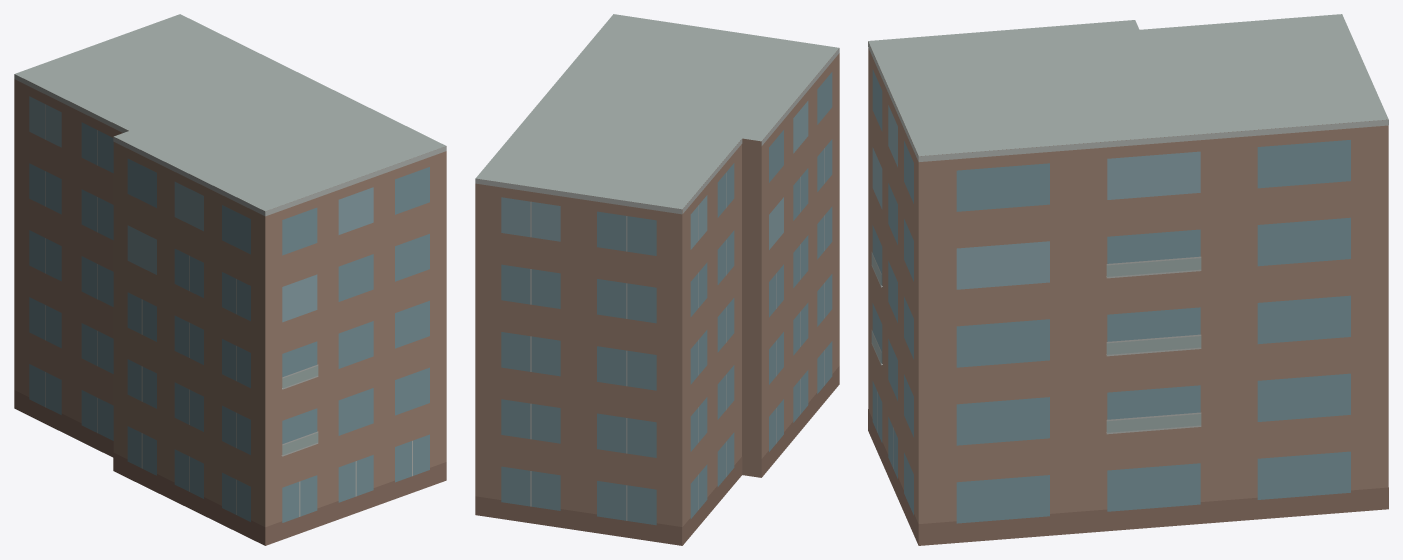
File: survey-upis-32835625.glb
The picture shows the model from 3 angles, left to right: view 1: azimuth 30°, elevation 25°; view 2: azimuth 150°, elevation 25°; view 3: azimuth 270°, elevation 25°; orthographic projection. The views are drawn at different scales.
Parts seen in each view (by area): view 1: survey-upis-32835625.tmp; view 2: survey-upis-32835625.tmp; view 3: survey-upis-32835625.tmp.
Part boxes in pixels (box(x1,y1,x2,y2)): survey-upis-32835625.tmp: box(14, 14, 446, 545); survey-upis-32835625.tmp: box(475, 14, 839, 545); survey-upis-32835625.tmp: box(868, 14, 1388, 545).
Size of the model in its own units: 12.62 by 16.1 by 19.51.
